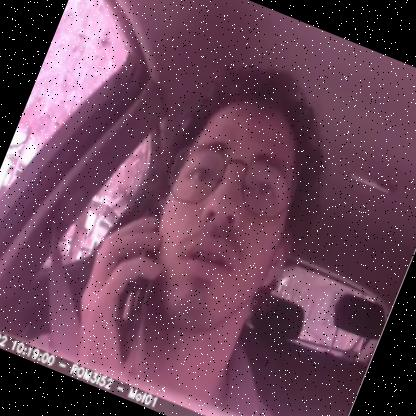phone: (78, 198, 189, 364)
